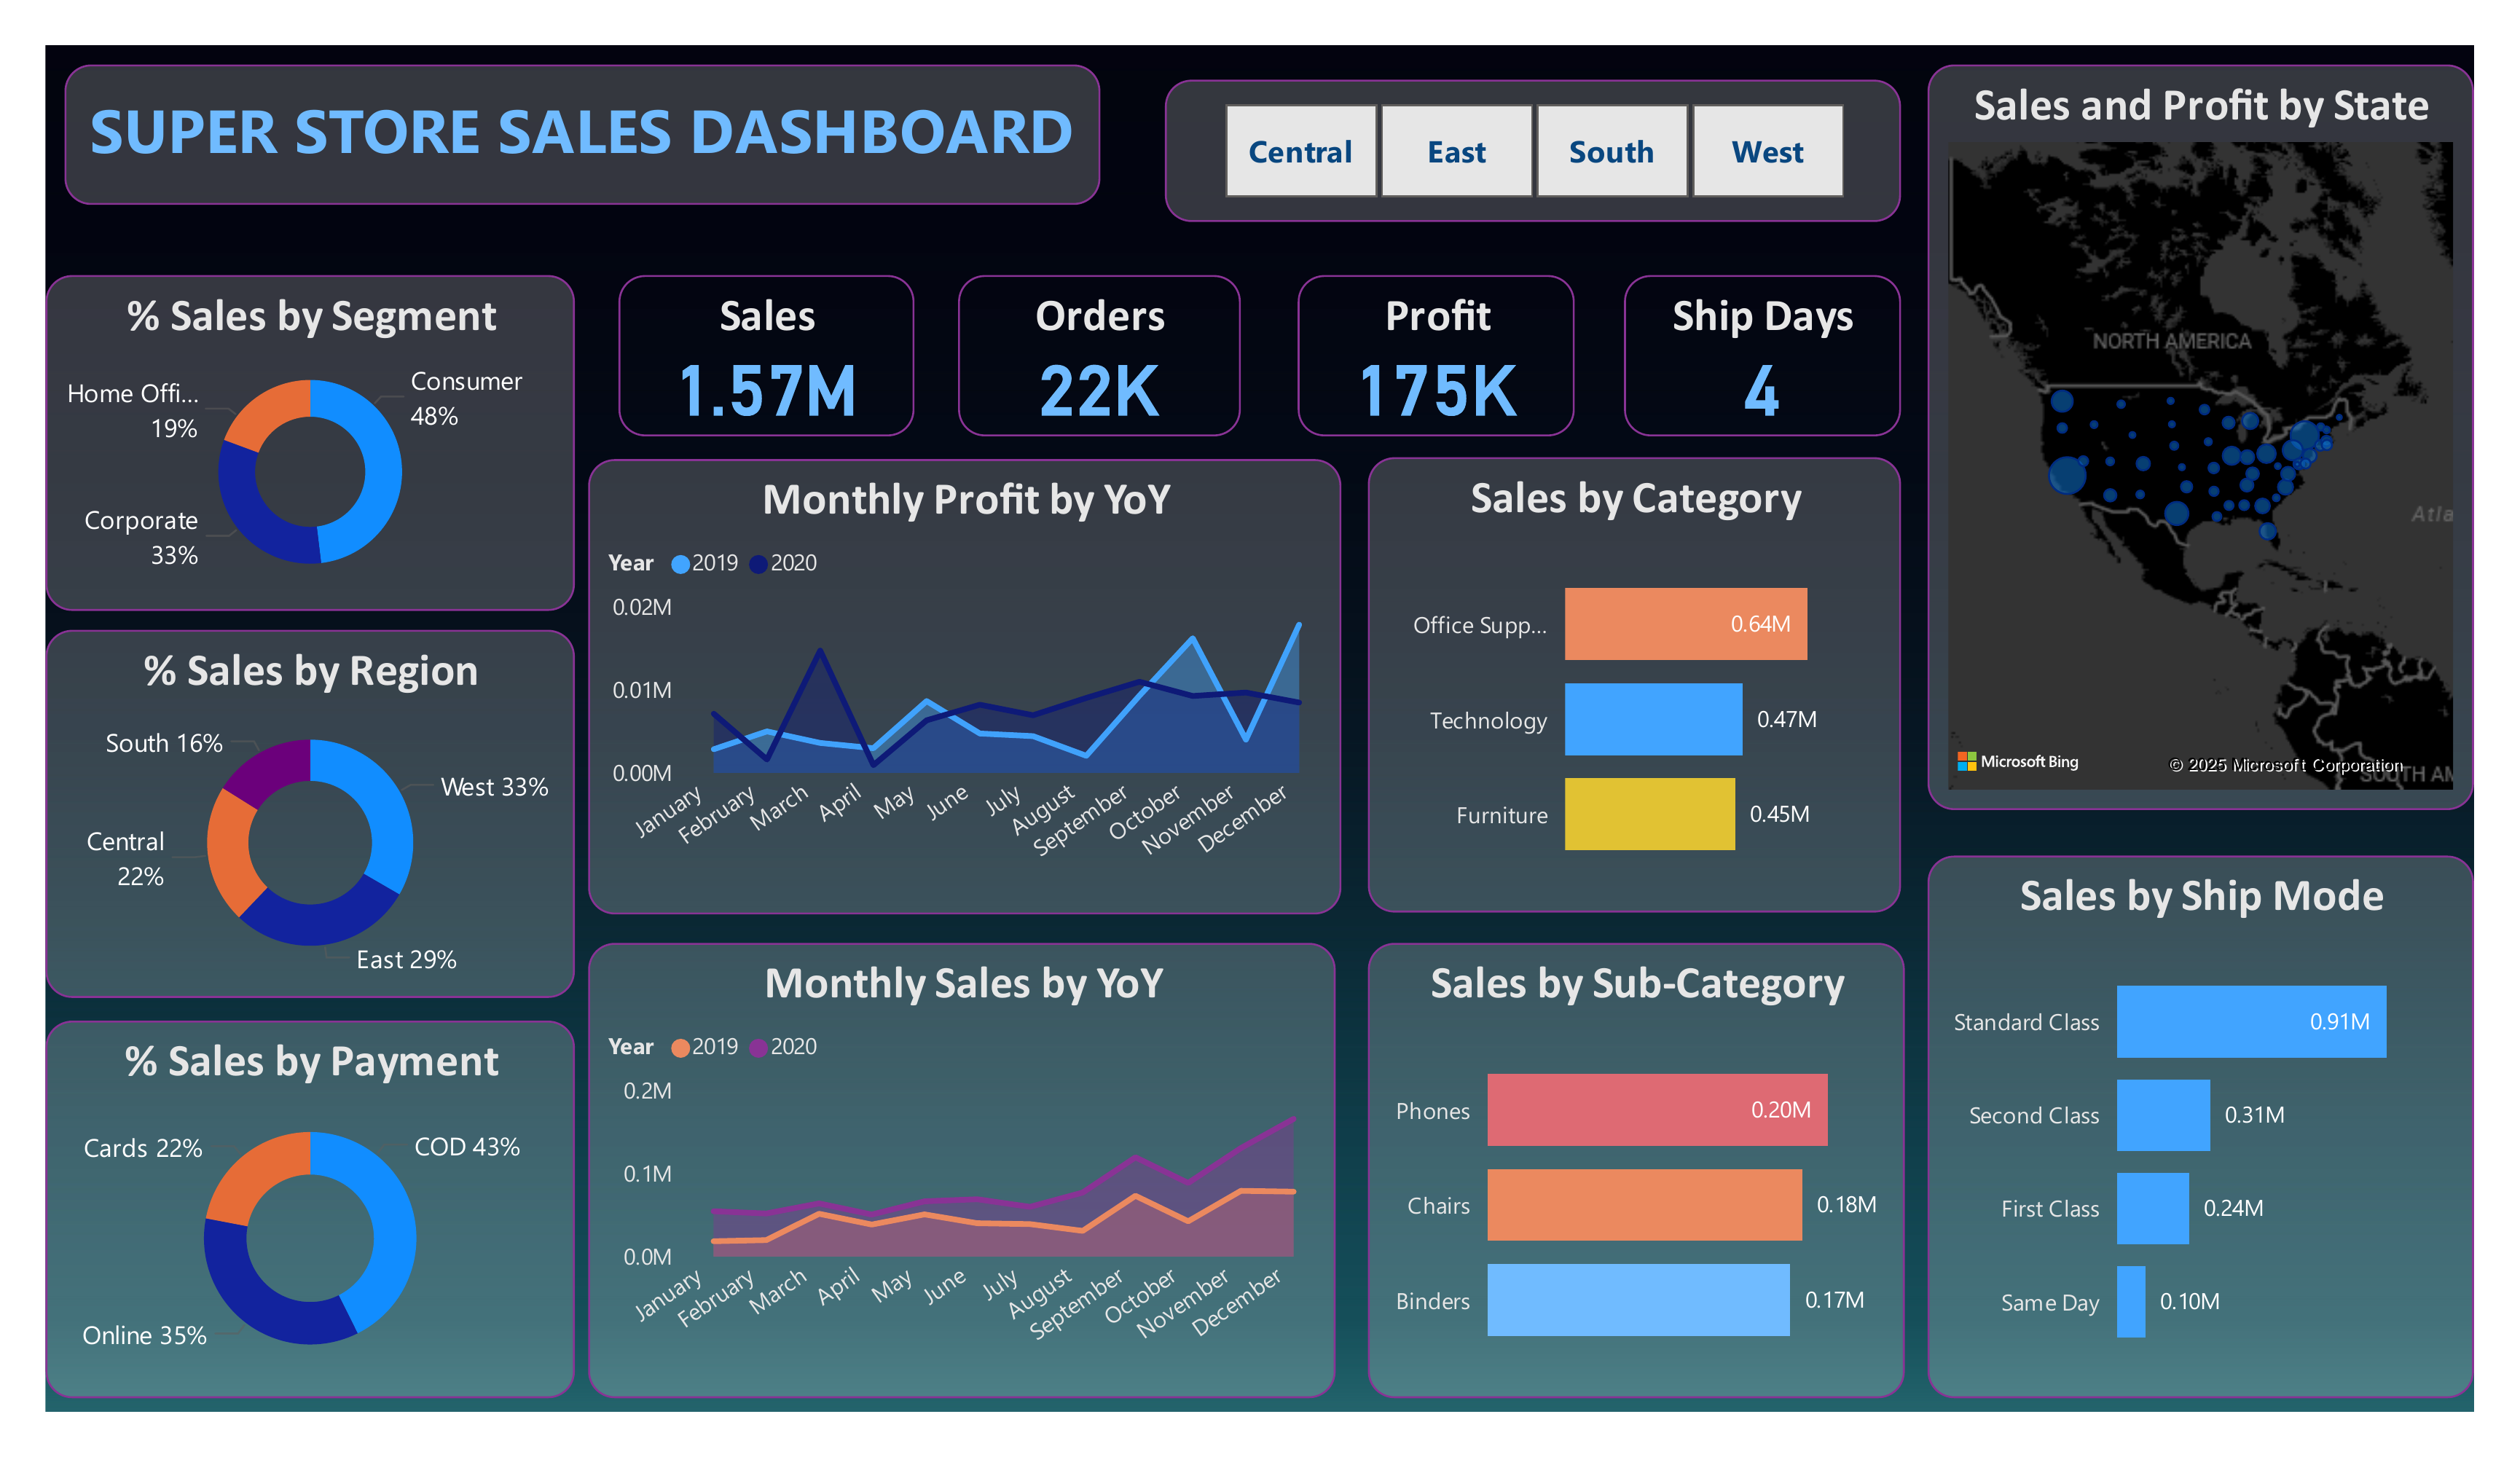

The dashboard page shown, as its layout file describes it:
{"tool":"powerbi","page":{"name":"Dashboard","canvas":[1280,720],"ordinal":0},"visuals":[{"type":"clusteredBarChart","title":"Sales by Category","fields":{"Category":["SuperStore_Sales_Dataset.Category"],"Y":["Sum(SuperStore_Sales_Dataset.Sales)"]},"box":[697.3,217.2,281.1,240.1],"z":0},{"type":"clusteredBarChart","title":"Sales by Sub-Category","fields":{"Category":["SuperStore_Sales_Dataset.Sub-Category"],"Y":["Sum(SuperStore_Sales_Dataset.Sales)"]},"box":[697.3,472.9,282.3,240.1],"z":1000},{"type":"clusteredBarChart","title":"Sales by Ship Mode","fields":{"Category":["SuperStore_Sales_Dataset.Ship Mode"],"Y":["Sum(SuperStore_Sales_Dataset.Sales)"]},"box":[991.7,427.1,288.3,285.9],"z":2000},{"type":"areaChart","title":"Monthly Sales by YoY","fields":{"Y":["Sum(SuperStore_Sales_Dataset.Sales)"],"Series":["SuperStore_Sales_Dataset.Order Date.Variation.Date Hierarchy.Year"],"Category":["SuperStore_Sales_Dataset.Order Date.Variation.Date Hierarchy.Month","SuperStore_Sales_Dataset.Order Date.Variation.Date Hierarchy.Day"]},"box":[285.9,473.4,394.5,240.1],"z":3000},{"type":"areaChart","title":"Monthly Profit by YoY","fields":{"Series":["SuperStore_Sales_Dataset.Order Date.Variation.Date Hierarchy.Year"],"Category":["SuperStore_Sales_Dataset.Order Date.Variation.Date Hierarchy.Month","SuperStore_Sales_Dataset.Order Date.Variation.Date Hierarchy.Day"],"Y":["Sum(SuperStore_Sales_Dataset.Profit)"]},"box":[285.9,217.6,396.9,240.1],"z":4000},{"type":"map","title":"Sales and Profit by State","fields":{"Category":["SuperStore_Sales_Dataset.State"],"Size":["Sum(SuperStore_Sales_Dataset.Sales)"]},"box":[991.7,9.7,288.3,393.3],"z":5000},{"type":"donutChart","title":"% Sales by Segment","fields":{"Category":["SuperStore_Sales_Dataset.Segment"],"Y":["Sum(SuperStore_Sales_Dataset.Sales)"]},"box":[0,120.6,278.7,177.3],"z":6000},{"type":"donutChart","title":"% Sales by Region","fields":{"Category":["SuperStore_Sales_Dataset.Region"],"Y":["Sum(SuperStore_Sales_Dataset.Sales)"]},"box":[0,307.6,278.7,194.2],"z":7000},{"type":"donutChart","title":"% Sales by Payment ","fields":{"Category":["SuperStore_Sales_Dataset.Payment Mode"],"Y":["Sum(SuperStore_Sales_Dataset.Sales)"]},"box":[0,513.9,278.7,199.1],"z":8000},{"type":"slicer","fields":{"Values":["SuperStore_Sales_Dataset.Region"]},"box":[589.9,18.1,388.5,74.8],"z":9000},{"type":"textbox","box":[9.7,9.7,546.5,74.8],"z":10000},{"type":"card","title":"Sales","fields":{"Values":["Sum(SuperStore_Sales_Dataset.Sales)"]},"box":[301.6,120.6,156.8,85.7],"z":11000},{"type":"card","title":"Orders","fields":{"Values":["Sum(SuperStore_Sales_Dataset.Quantity)"]},"box":[481.4,120.6,148.4,85.7],"z":12000},{"type":"card","title":"Profit","fields":{"Values":["Sum(SuperStore_Sales_Dataset.Profit)"]},"box":[659.9,120.6,146,85.7],"z":13000},{"type":"card","title":"Ship Days","fields":{"Values":["Avg(SuperStore_Sales_Dataset.Avg_Delivery)"]},"box":[832.4,120.6,146,85.7],"z":14000}]}

Visuals, with their boxes in screenshot pixels (x1, y1, x2, y2), scaled from the page's 1280x720 canvas onto the 2520x1457 screenshot:
"Sales by Category" clusteredBarChart: [x1=1373, y1=439, x2=1926, y2=925]
"Sales by Sub-Category" clusteredBarChart: [x1=1373, y1=957, x2=1928, y2=1443]
"Sales by Ship Mode" clusteredBarChart: [x1=1952, y1=864, x2=2519, y2=1443]
"Monthly Sales by YoY" areaChart: [x1=563, y1=958, x2=1340, y2=1444]
"Monthly Profit by YoY" areaChart: [x1=563, y1=440, x2=1344, y2=926]
"Sales and Profit by State" map: [x1=1952, y1=20, x2=2519, y2=815]
"% Sales by Segment" donutChart: [x1=0, y1=244, x2=549, y2=602]
"% Sales by Region" donutChart: [x1=0, y1=622, x2=549, y2=1016]
"% Sales by Payment " donutChart: [x1=0, y1=1040, x2=549, y2=1443]
slicer - SuperStore_Sales_Dataset.Region: [x1=1161, y1=36, x2=1926, y2=188]
textbox: [x1=19, y1=20, x2=1095, y2=171]
"Sales" card: [x1=594, y1=244, x2=903, y2=417]
"Orders" card: [x1=948, y1=244, x2=1240, y2=417]
"Profit" card: [x1=1299, y1=244, x2=1587, y2=417]
"Ship Days" card: [x1=1638, y1=244, x2=1926, y2=417]
